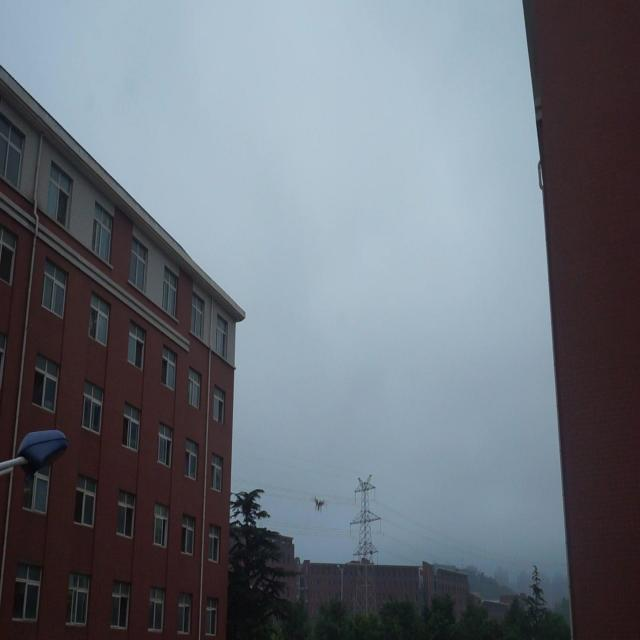UAV: (314, 497, 324, 513)
